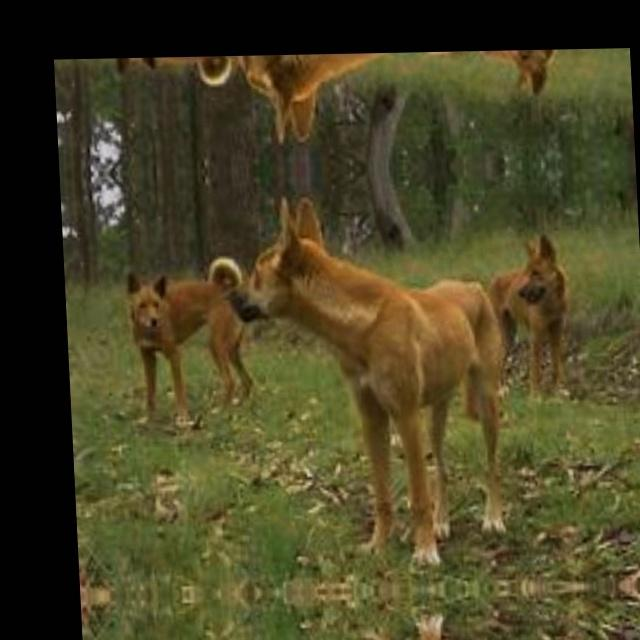dog: (226, 216, 513, 529), (108, 255, 252, 416), (218, 50, 492, 120), (99, 56, 235, 87)
